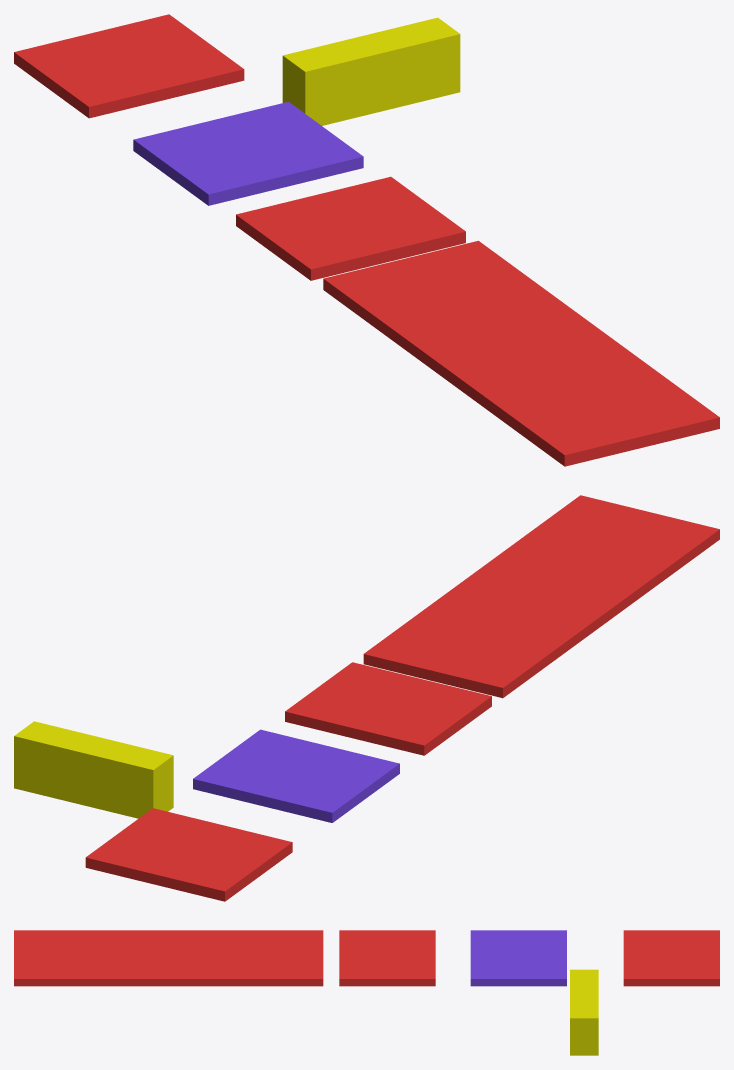
The model's file is testmap.glb.
The picture shows the model from 3 angles, top to bottom: view 1: azimuth 30°, elevation 25°; view 2: azimuth 150°, elevation 25°; view 3: azimuth 270°, elevation 25°; orthographic projection. The views are drawn at different scales.
Visible parts, largest first — view 1: ground_tasotaso, ground_taso.002, ground_taso.001, ground_taso, liikkuva; view 2: ground_tasotaso, ground_taso.001, ground_taso.002, ground_taso, liikkuva; view 3: ground_tasotaso, ground_taso, ground_taso.002, ground_taso.001, liikkuva.
Part boxes in pixels (<box>): ground_tasotaso: <box>323,240,719,466</box>; ground_taso.002: <box>133,101,363,205</box>; ground_taso.001: <box>14,14,244,118</box>; ground_taso: <box>236,176,465,280</box>; liikkuva: <box>282,17,460,125</box>; ground_tasotaso: <box>363,495,719,698</box>; ground_taso.001: <box>85,808,292,901</box>; ground_taso.002: <box>193,729,399,822</box>; ground_taso: <box>285,662,491,755</box>; liikkuva: <box>14,721,173,818</box>; ground_tasotaso: <box>14,930,323,986</box>; ground_taso: <box>339,930,435,986</box>; ground_taso.002: <box>470,930,566,986</box>; ground_taso.001: <box>623,930,719,986</box>; liikkuva: <box>570,969,598,1055</box>.
Size of the model in its own units: 11.14 by 1.88 by 32.27.
